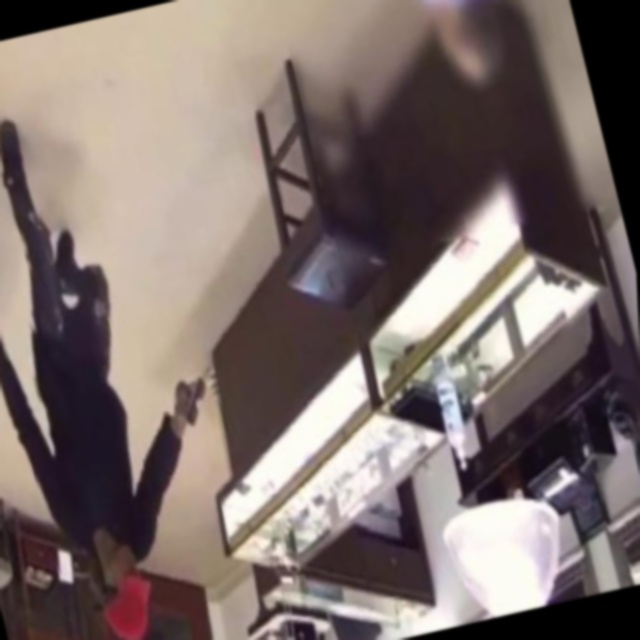gun: (163, 362, 223, 432)
